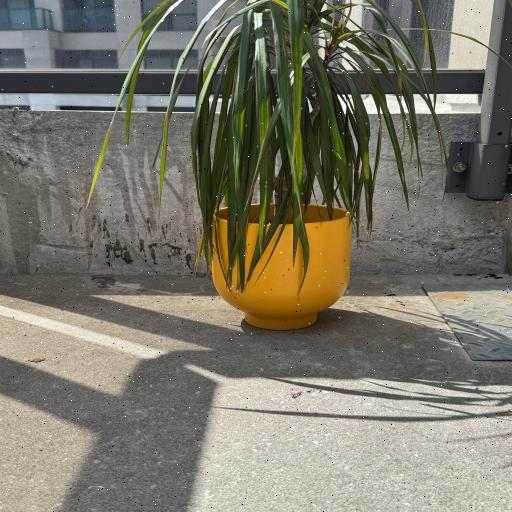Plant Pot: (207, 199, 354, 329)
